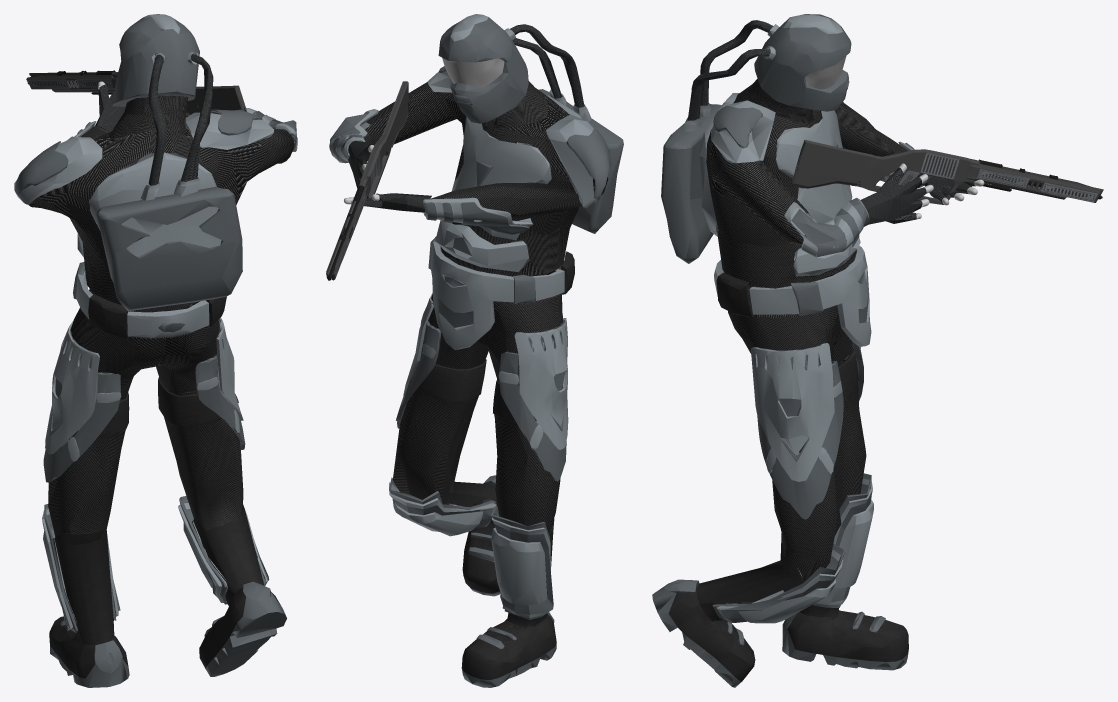
3 renders of one model, left to right at view 1: azimuth 30°, elevation 25°; view 2: azimuth 150°, elevation 25°; view 3: azimuth 270°, elevation 25°, orthographic. The views are drawn at different scales.
Parts seen in each view (by area): view 1: personaje:extrudedSurface2 polySurface56, personaje:PANTALON polySurface56, personaje:bota1 polySurface56, personaje:CAMISETABUENA polySurface56, personaje:pPipe4 polySurface56, personaje:pCube4 polySurface56, personaje:cosoarmdaurapierna1 polySurface56, personaje:cinturon polySurface56, escopeta:Cylinder001 polySurface56, personaje:polySurface6 polySurface56, personaje:armadbota1 polySurface56, personaje:cosoarmadurapierna2 polySurface56 (+3 smaller); view 2: personaje:PANTALON polySurface56, personaje:CAMISETABUENA polySurface56, personaje:pPipe4 polySurface56, personaje:extrudedSurface2 polySurface56, personaje:bota1 polySurface56, personaje:cinturon polySurface56, personaje:pCube4 polySurface56, personaje:armadbota1 polySurface56, personaje:cosoarmdaurapierna1 polySurface56, escopeta:Cylinder001 polySurface56, personaje:polySurface6 polySurface56, personaje:HOMBRO2 polySurface56 (+7 smaller); view 3: personaje:bota1 polySurface56, personaje:CAMISETABUENA polySurface56, personaje:extrudedSurface2 polySurface56, personaje:pPipe4 polySurface56, personaje:pCube4 polySurface56, personaje:PANTALON polySurface56, escopeta:Cylinder001 polySurface56, personaje:cinturon polySurface56, personaje:armadbota1 polySurface56, personaje:cosoarmadurapierna2 polySurface56, personaje:hombro1 polySurface56, personaje:partearmdBRAZO2 polySurface56 (+2 smaller).
Boxes of the visible parts, x1,y1,x2,y2 form: personaje:extrudedSurface2 polySurface56: (96,14,242,311); personaje:PANTALON polySurface56: (48,289,243,548); personaje:bota1 polySurface56: (49,504,286,687); personaje:CAMISETABUENA polySurface56: (23,95,294,338); personaje:pPipe4 polySurface56: (14,84,296,257); personaje:pCube4 polySurface56: (43,304,269,632); personaje:cosoarmdaurapierna1 polySurface56: (45,321,121,461); personaje:cinturon polySurface56: (73,262,226,338); escopeta:Cylinder001 polySurface56: (26,70,246,117); personaje:polySurface6 polySurface56: (97,377,221,437); personaje:armadbota1 polySurface56: (42,502,267,629); personaje:cosoarmadurapierna2 polySurface56: (195,355,245,449); personaje:PANTALON polySurface56: (392,261,562,533); personaje:CAMISETABUENA polySurface56: (364,60,608,302); personaje:pPipe4 polySurface56: (330,71,601,272); personaje:extrudedSurface2 polySurface56: (438,14,623,233); personaje:bota1 polySurface56: (441,475,556,687); personaje:cinturon polySurface56: (428,230,574,349); personaje:pCube4 polySurface56: (389,293,566,619); personaje:armadbota1 polySurface56: (389,482,551,617); personaje:cosoarmdaurapierna1 polySurface56: (498,318,568,450); escopeta:Cylinder001 polySurface56: (326,81,409,280); personaje:polySurface6 polySurface56: (417,359,516,422); personaje:HOMBRO2 polySurface56: (566,129,610,198); personaje:bota1 polySurface56: (652,560,908,687); personaje:CAMISETABUENA polySurface56: (706,79,908,317); personaje:extrudedSurface2 polySurface56: (661,14,851,263); personaje:pPipe4 polySurface56: (698,93,975,276); personaje:pCube4 polySurface56: (712,342,871,622); personaje:PANTALON polySurface56: (728,261,866,591); escopeta:Cylinder001 polySurface56: (792,140,1103,204); personaje:cinturon polySurface56: (714,245,871,346); personaje:armadbota1 polySurface56: (716,478,873,623); personaje:cosoarmadurapierna2 polySurface56: (757,355,843,519); personaje:hombro1 polySurface56: (713,106,762,148); personaje:partearmdBRAZO2 polySurface56: (784,198,869,258).
Bounding box in the file's own units: 4.25 × 9.53 × 5.82.
